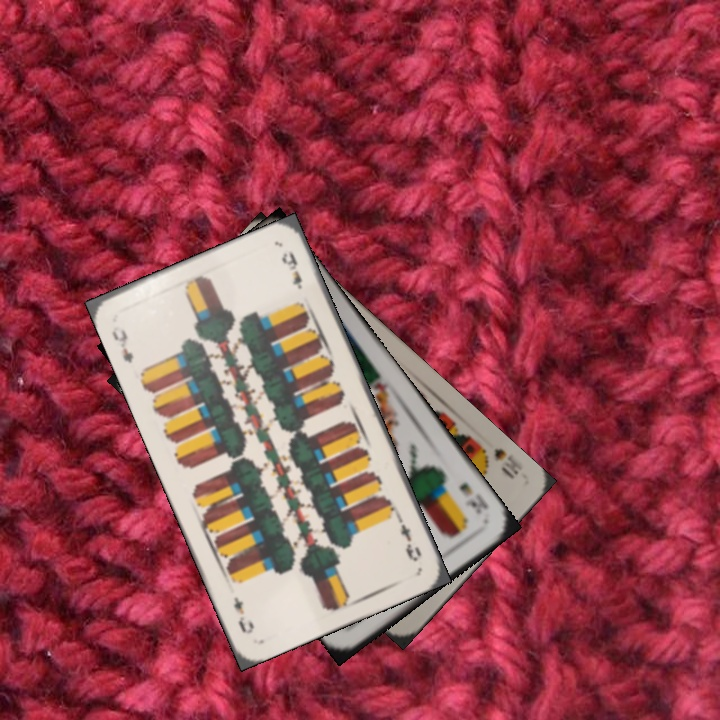E9: (392, 511, 424, 564), (107, 324, 136, 366)
EK: (455, 478, 492, 516)
S10: (473, 440, 525, 482)
